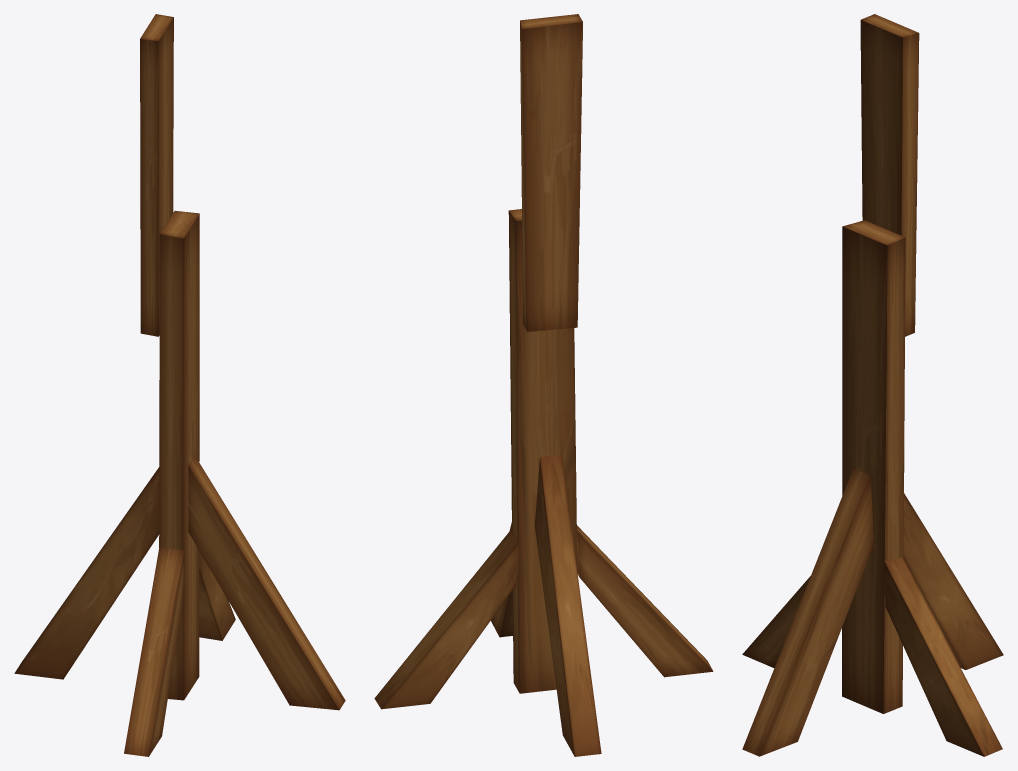
Rendered from Support.001.fbx.
The picture shows the model from 3 angles, left to right: view 1: azimuth 30°, elevation 25°; view 2: azimuth 150°, elevation 25°; view 3: azimuth 270°, elevation 25°; orthographic projection. The views are drawn at different scales.
Parts seen in each view (by area): view 1: Support.001; view 2: Support.001; view 3: Support.001.
Part boxes in pixels (left/top/right/bottom): Support.001: left=14, top=14, right=345, bottom=756; Support.001: left=374, top=14, right=713, bottom=756; Support.001: left=742, top=14, right=1003, bottom=756.
Size of the model in its own units: 93.78 by 266 by 94.25.
